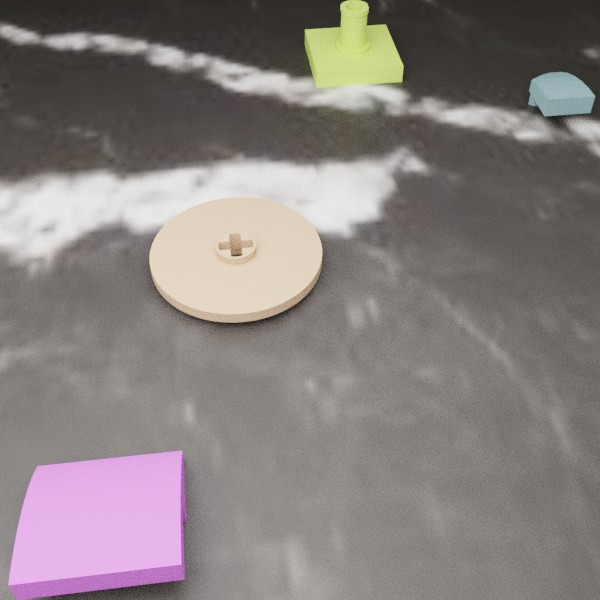lego: (8, 450, 185, 599), (149, 197, 322, 322), (304, 0, 403, 87), (528, 71, 595, 116)
